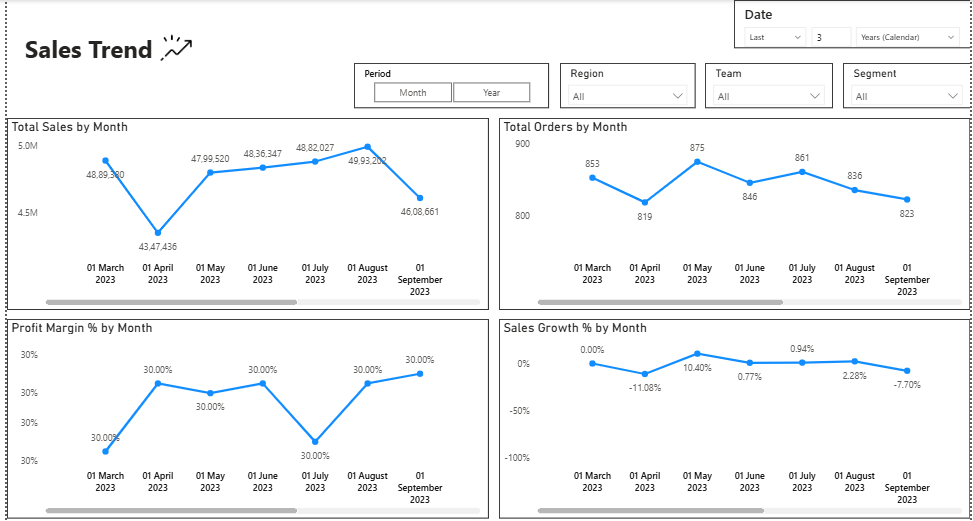

The page's visual inventory and layout, read from the dashboard file:
{"tool":"powerbi","page":{"name":"Sales Trend","canvas":[1280,720],"ordinal":1},"visuals":[{"type":"slicer","fields":{"Values":["Calendar.Date"]},"box":[965.9,0,314.6,64.4],"z":0},{"type":"slicer","fields":{"Values":["Customers.Region"]},"box":[734.6,83.4,180,60],"z":1000},{"type":"slicer","fields":{"Values":["SalesData.Team"]},"box":[927.8,83.4,169.8,60],"z":2000},{"type":"slicer","fields":{"Values":["SalesData.Segment"]},"box":[1110.7,83.4,169.8,60],"z":3000},{"type":"slicer","fields":{"Values":["Period.Period"]},"box":[461,83.4,259,60],"z":4000},{"type":"lineChart","fields":{"Category":["Calendar.Start of Month","Calendar.Year"],"Y":["_All Measures.Total Orders"]},"box":[654.1,156.6,626.3,254.6],"z":5000},{"type":"lineChart","fields":{"Category":["Calendar.Start of Month","Calendar.Year"],"Y":["_All Measures.Profit Margin %"]},"box":[0,424.4,639.5,264.9],"z":6000},{"type":"lineChart","fields":{"Category":["Calendar.Start of Month","Calendar.Year"],"Y":["_All Measures.Sales Growth %"]},"box":[654.1,424.4,626.3,264.9],"z":7000},{"type":"lineChart","fields":{"Category":["Calendar.Start of Month","Calendar.Year"],"Y":["_All Measures.Total Sales"]},"box":[0,156.6,639.5,254.6],"z":8000},{"type":"textbox","box":[19,36.6,190.2,54.1],"z":9000},{"type":"image","box":[161,42.4,125.9,43.9],"z":10000}]}

Visuals, with their boxes on the page's 1280x720 design canvas (x1, y1, x2, y2). These are canvas units, not pixel positions in the 973x521 screenshot, which may show the page scaled, cropped or inside an application window:
slicer - Calendar.Date: bbox=[966, 0, 1280, 64]
slicer - Customers.Region: bbox=[735, 83, 915, 143]
slicer - SalesData.Team: bbox=[928, 83, 1098, 143]
slicer - SalesData.Segment: bbox=[1111, 83, 1280, 143]
slicer - Period.Period: bbox=[461, 83, 720, 143]
lineChart - Calendar.Start of Month x Calendar.Year: bbox=[654, 157, 1280, 411]
lineChart - Calendar.Start of Month x Calendar.Year: bbox=[0, 424, 640, 689]
lineChart - Calendar.Start of Month x Calendar.Year: bbox=[654, 424, 1280, 689]
lineChart - Calendar.Start of Month x Calendar.Year: bbox=[0, 157, 640, 411]
textbox: bbox=[19, 37, 209, 91]
image: bbox=[161, 42, 287, 86]
